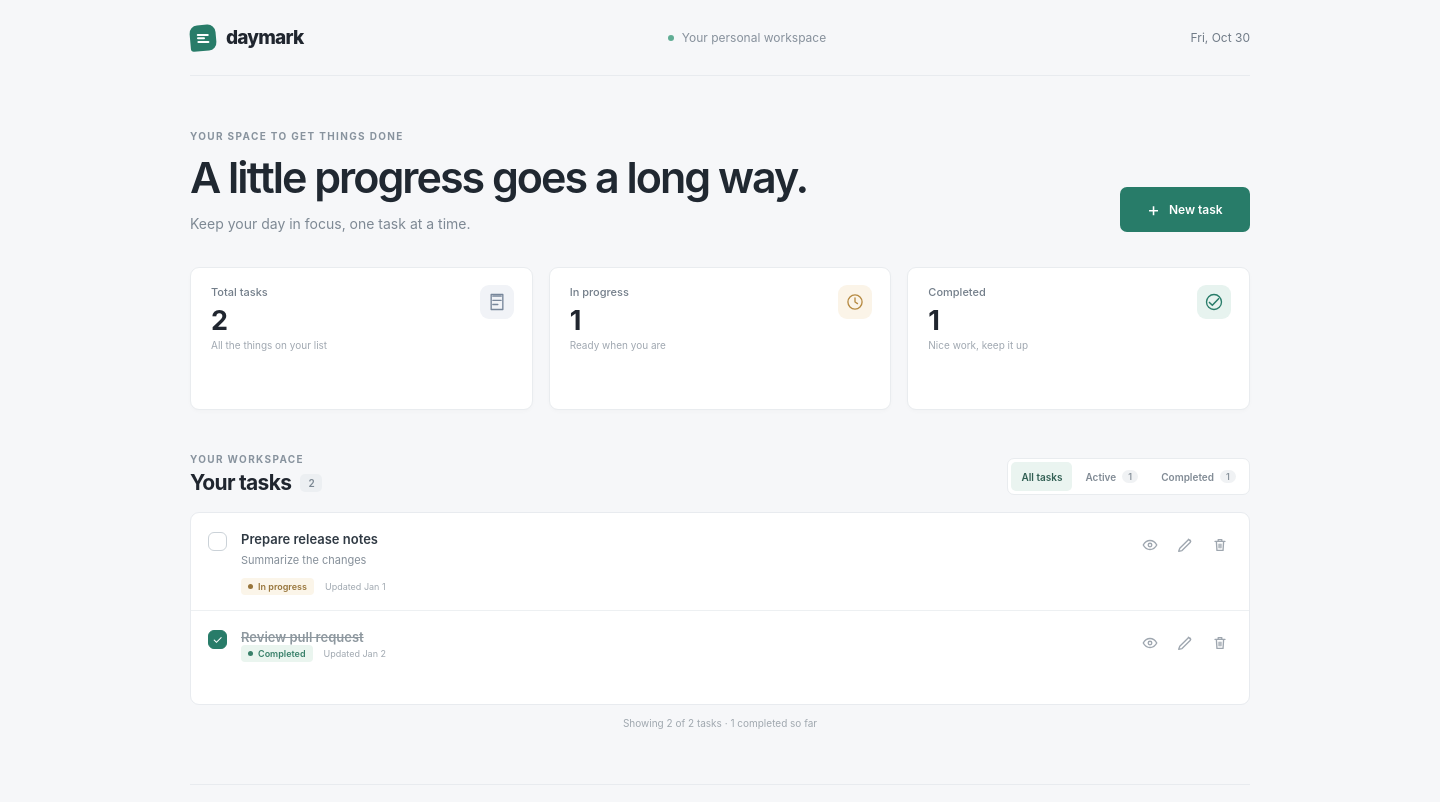
Test case: Tasks dashboard › fetches and displays details for a task
Click the button named "View Prepare release notes".
click(1150, 545)  # box [1133,528,1167,562]
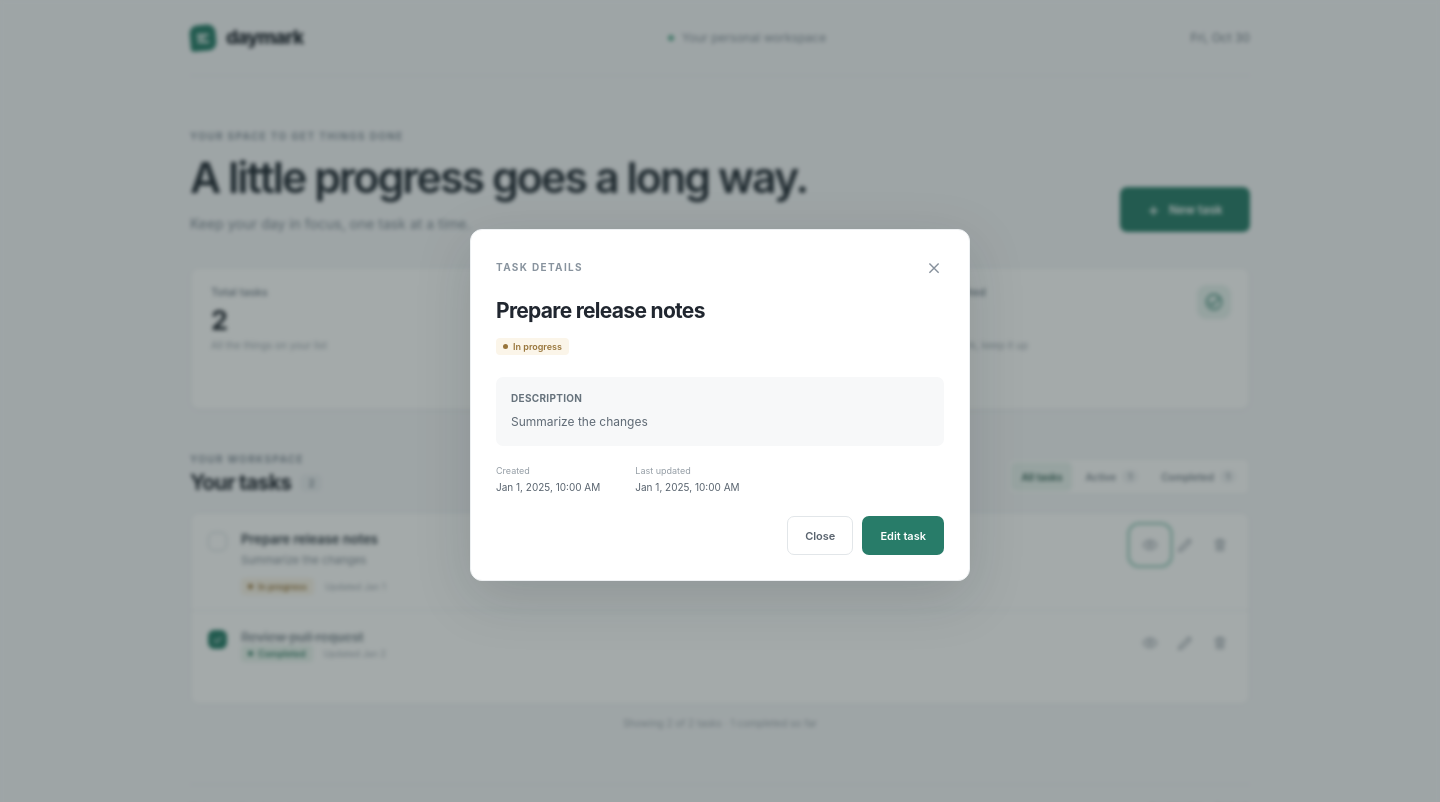
Expected: the text "Summarize the changes" is shown 2 times, [241,553,366,567]; [511,414,648,429]
Now the dialog "Prepare release notes" is shown, box [470,229,970,581]
